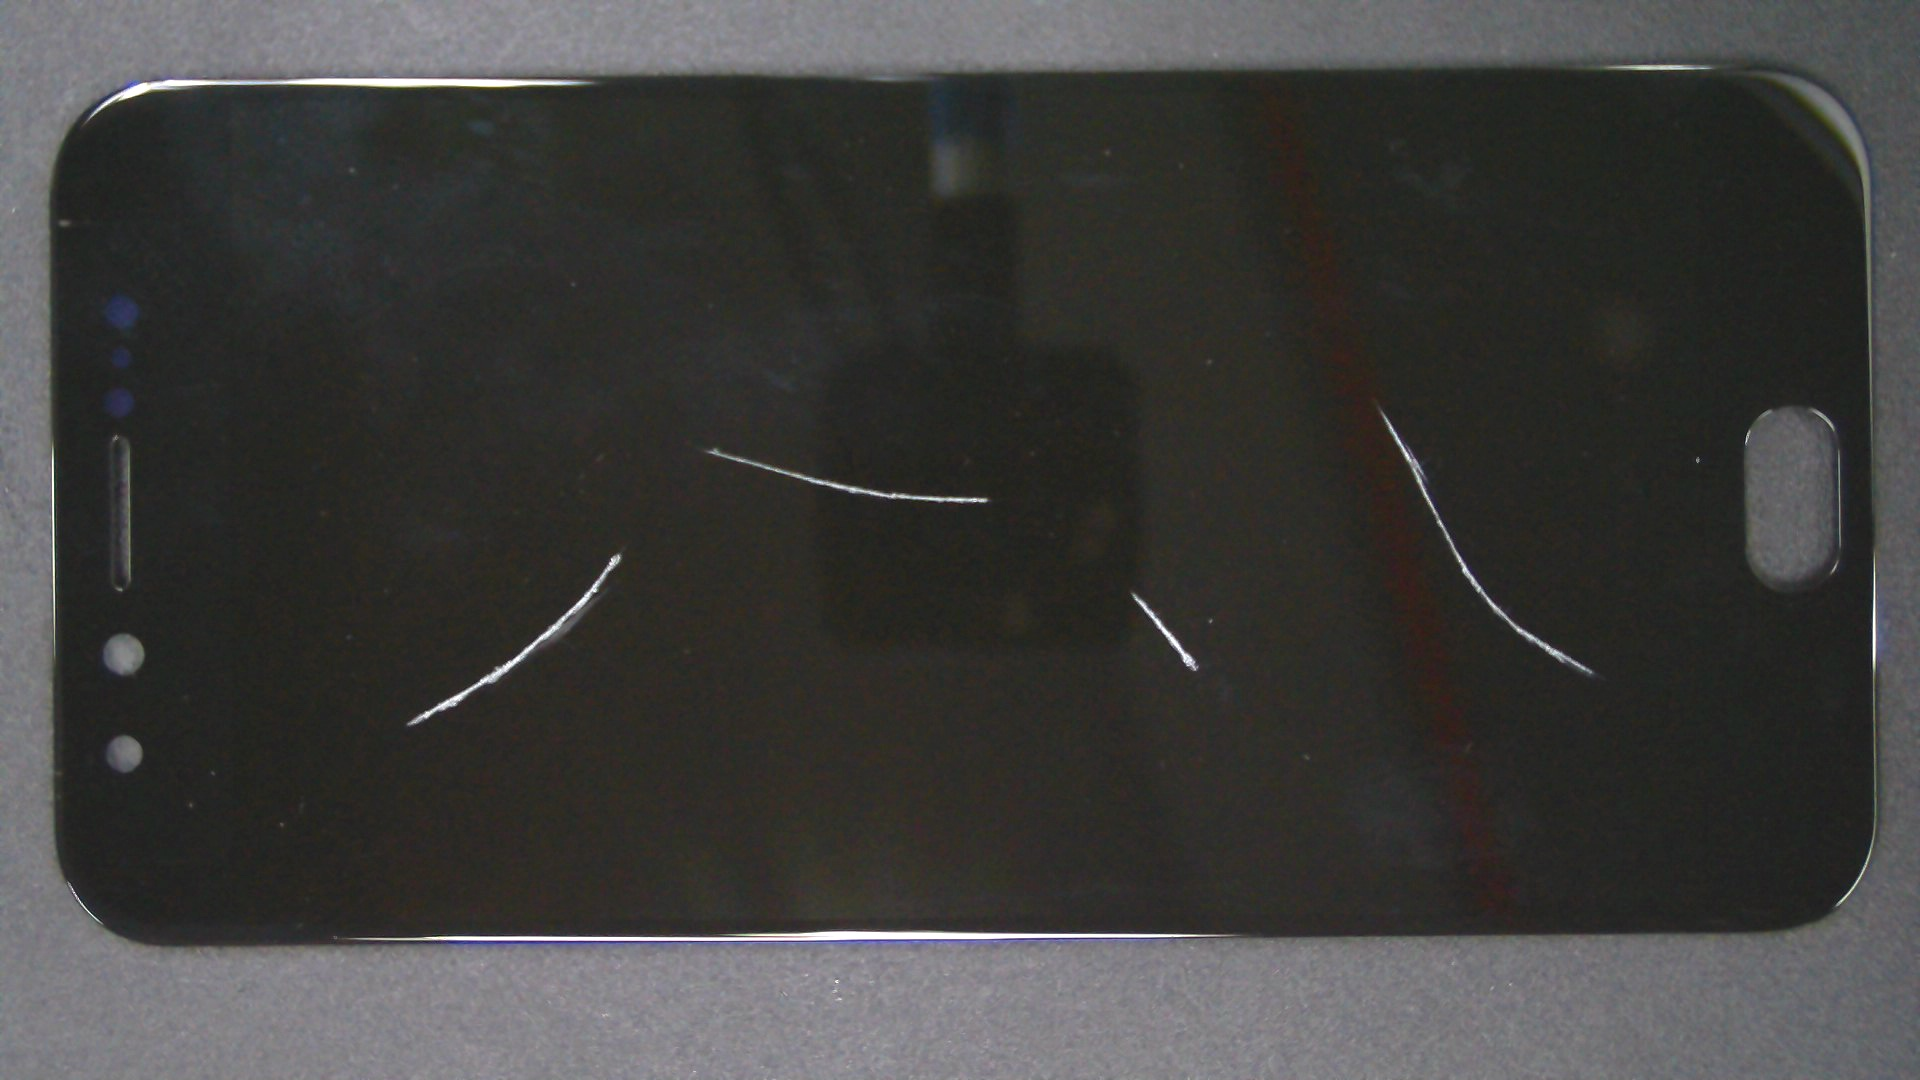oil: (567, 295, 1700, 890), (687, 200, 1920, 604), (310, 277, 928, 832), (357, 223, 1072, 673)
